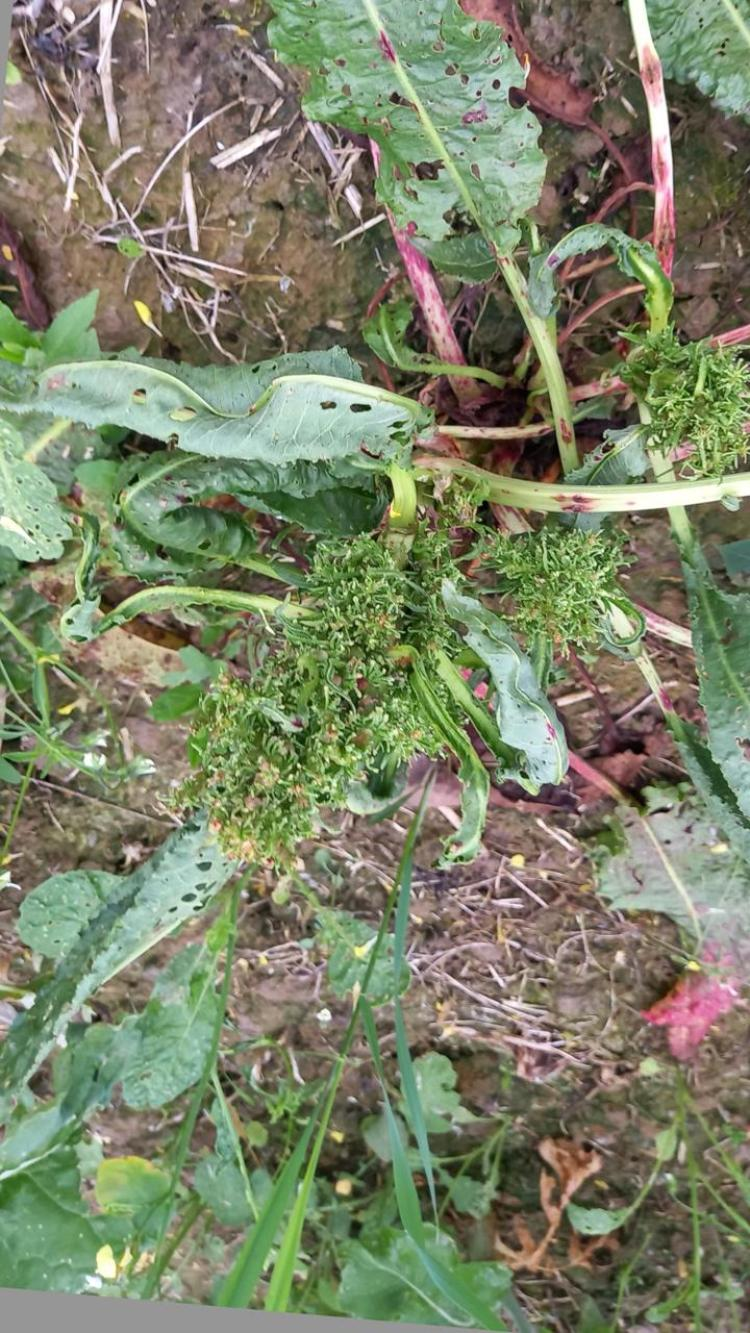zhavel: (125, 225, 750, 873)
